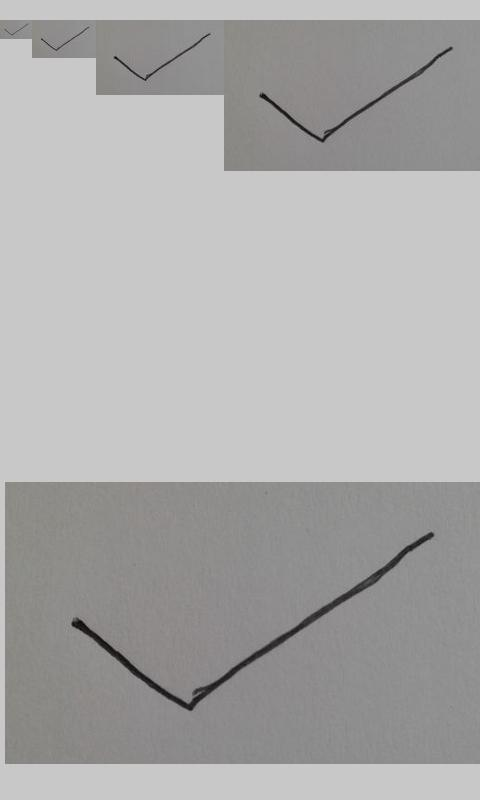check_box: (70, 531, 437, 714), (259, 46, 454, 143), (113, 32, 211, 81), (41, 26, 89, 51), (4, 23, 28, 36)
